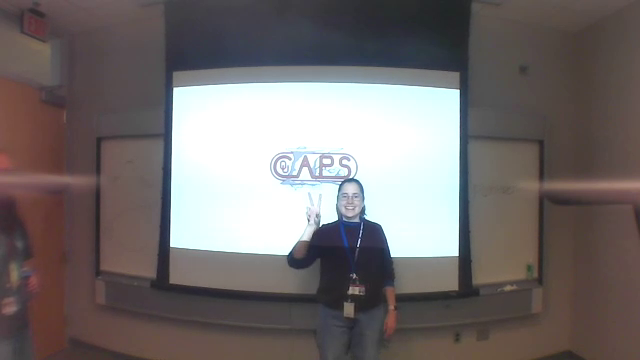peace: (301, 186, 327, 224)
